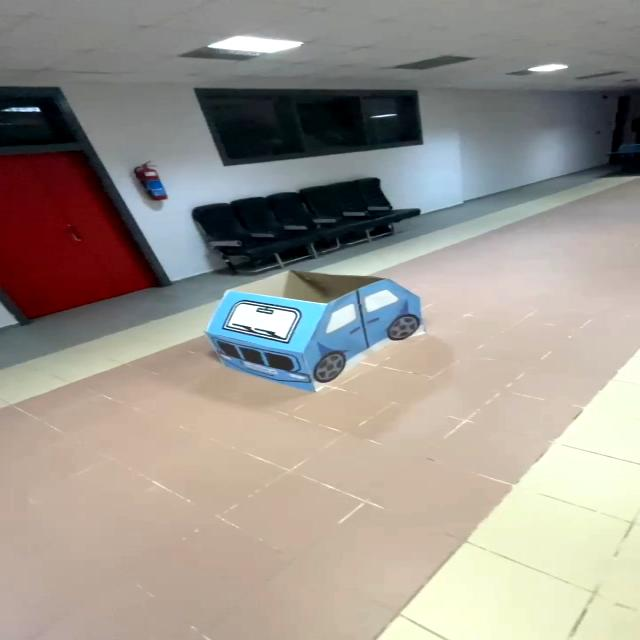blue_car: (194, 266, 442, 395)
